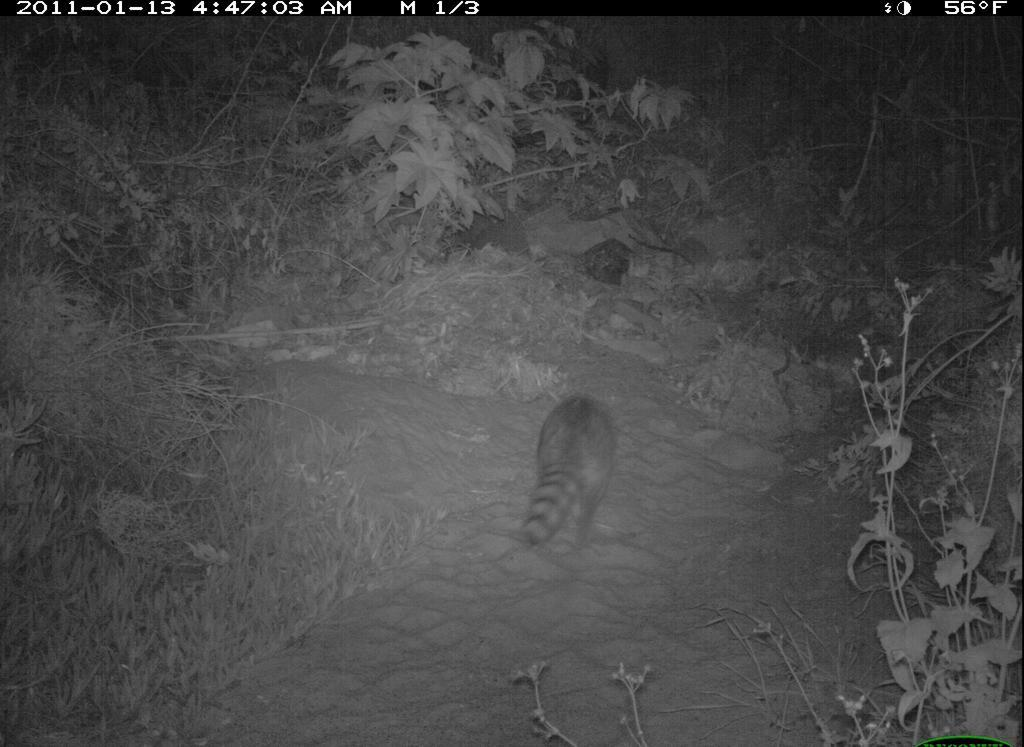raccoon: (506, 393, 626, 562)
